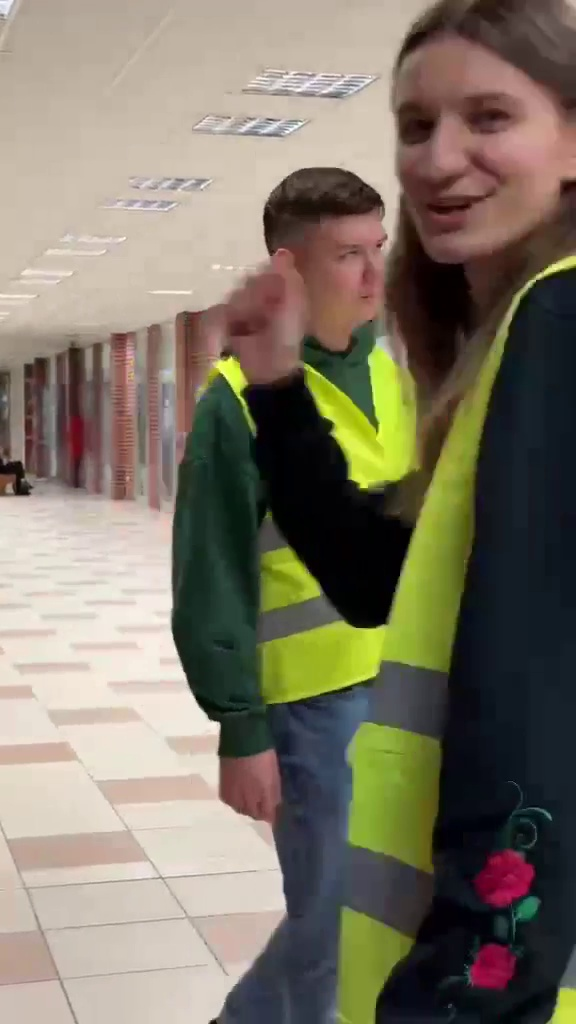vest: (393, 14, 576, 1001), (183, 138, 419, 798)
